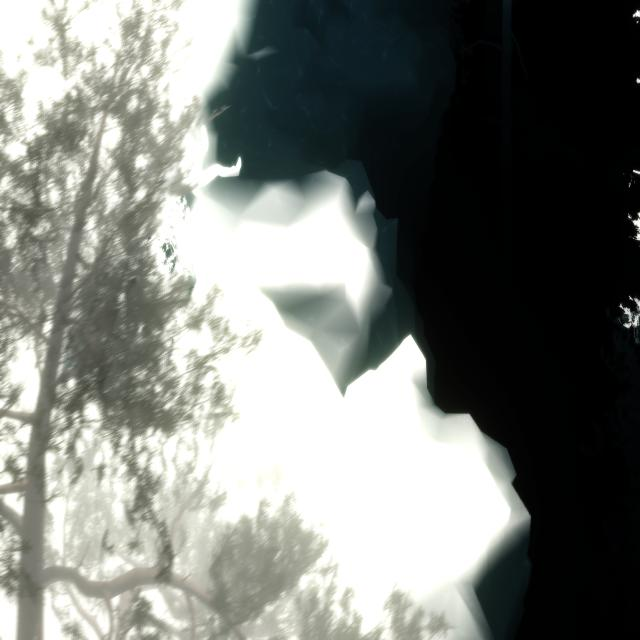Human: (170, 141, 243, 192)
